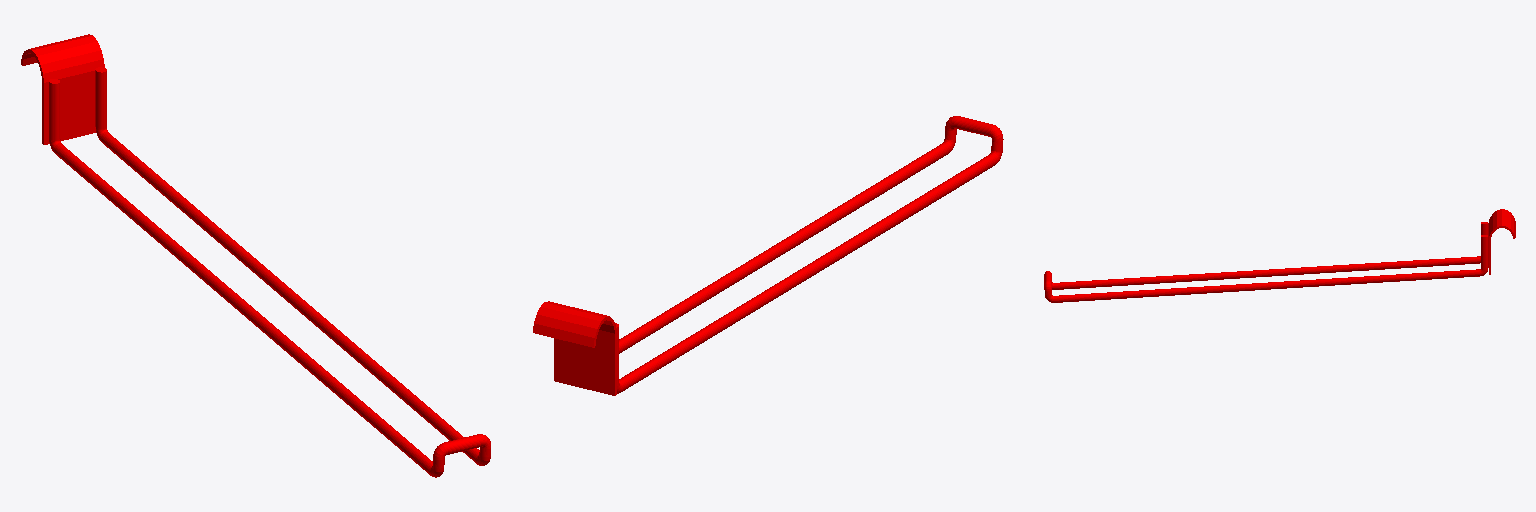
The robot description file, URDF, robot "cube.urdf":
<?xml version="1.0" ?>
<robot name="cube.urdf">
  <link name="legobrick">
    <contact>
      <lateral_friction value="1.0"/>
      <rolling_friction value="0.0"/>
      <contact_cfm value="0.0"/>
      <contact_erp value="1.0"/>
    </contact>
    <inertial>
      <origin rpy="0 0 0" xyz="0.0 0.0 0.0"/>
       <mass value=".1"/>
       <inertia ixx="1" ixy="0" ixz="0" iyy="1" iyz="0" izz="1"/>
    </inertial>
    <visual>
      <origin rpy="1.570796 0 0" xyz="-0.016 -0.016 -0.0115"/>
      <geometry>
        <mesh filename="SM_ShelfMetalHold_72.obj" scale="1 1 1"/>
      </geometry>
       <material name="red">
        <color rgba="1 0 0 1"/>
      </material>
    </visual>
    <collision>
      <origin rpy="0 0 0" xyz="0 0 0"/>
      <geometry>
	 			<box size="0.064 0.046 0.064"/>
      </geometry>
    </collision>
  </link>
</robot>

--- Facts derived from the render (not from the file) ---
Views: 3 orthographic renders of the robot side by side, from view 1: azimuth 30°, elevation 25°; view 2: azimuth 150°, elevation 25°; view 3: azimuth 270°, elevation 25°.
Robot: cube.urdf — 1 links, 0 joints (none); root link legobrick; default pose: every joint at zero.
Visible links, largest first — view 1: legobrick; view 2: legobrick; view 3: legobrick.
Link boxes in pixels (x1,y1,x2,y2): legobrick: (21, 34, 490, 477); legobrick: (533, 116, 1003, 395); legobrick: (1044, 209, 1515, 302).
Bounding box of the posed robot: 0.027 × 0.3185 × 0.0589 m (x, y, z).
Meshes: 1 distinct files referenced, 1 mesh visuals loaded (1 OBJ).